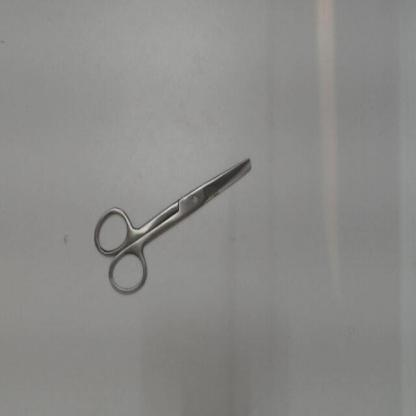Dressing Scissors: (84, 145, 264, 304)
